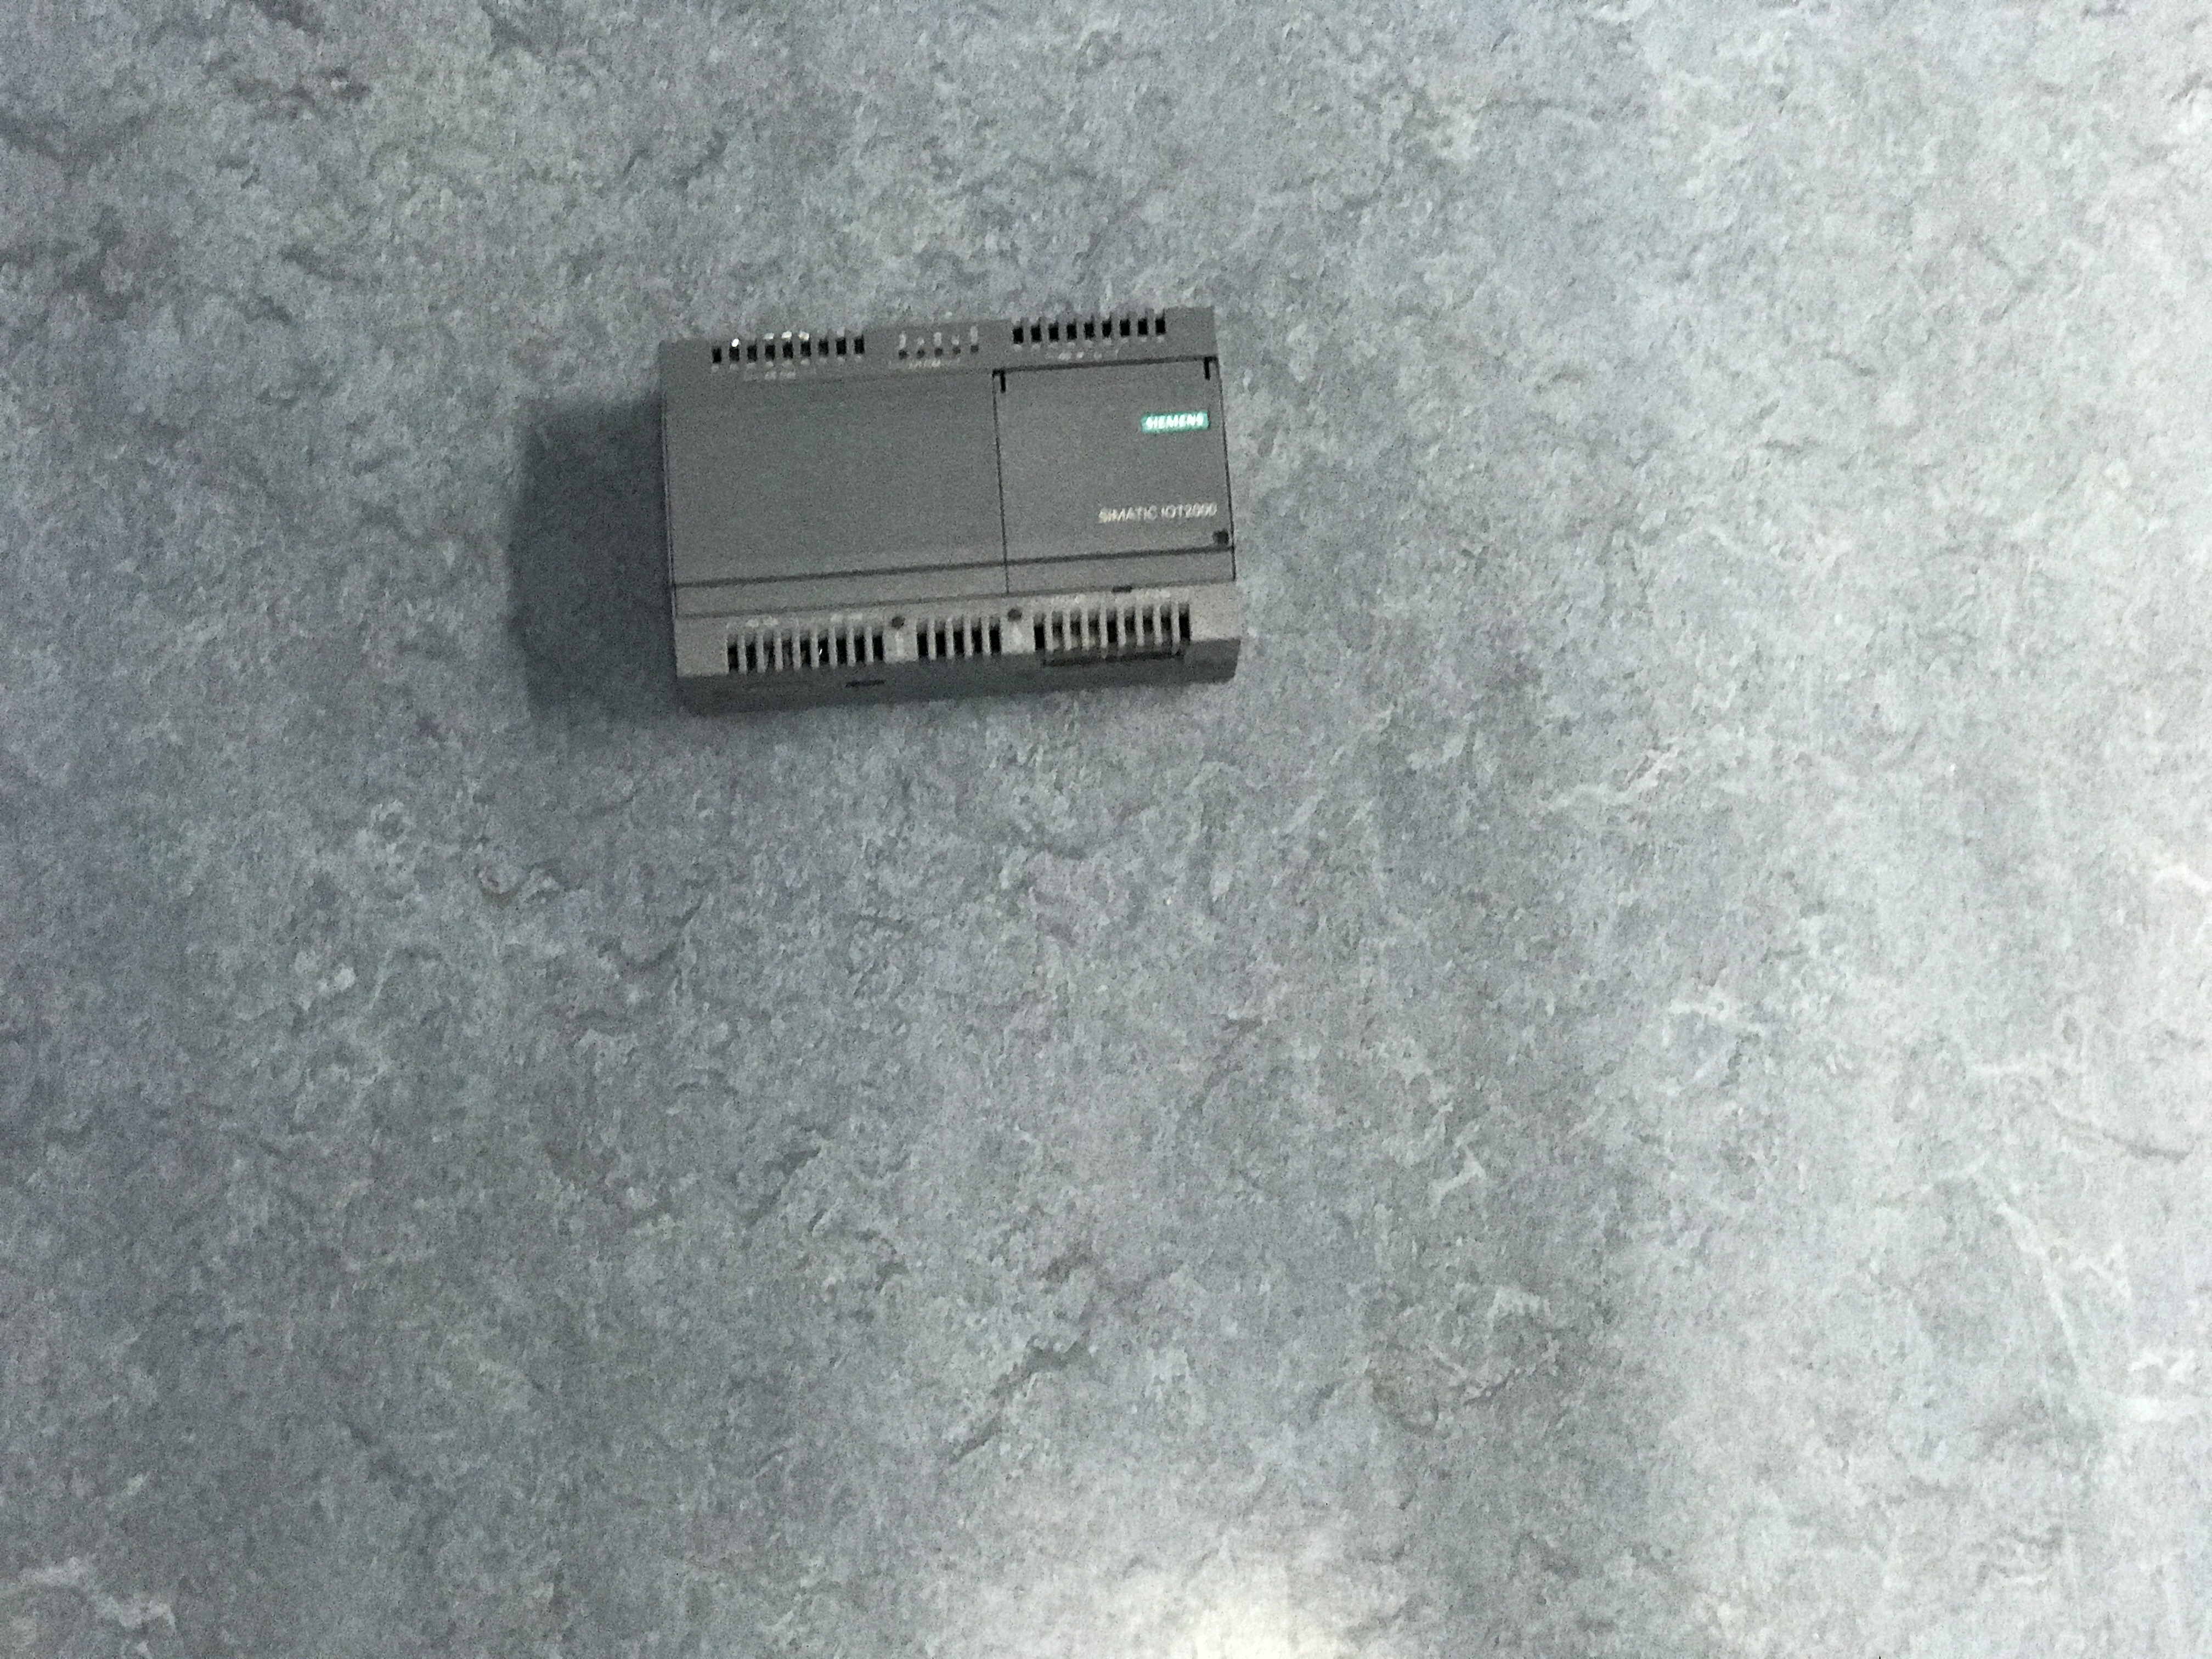device: (657, 307, 1244, 716)
